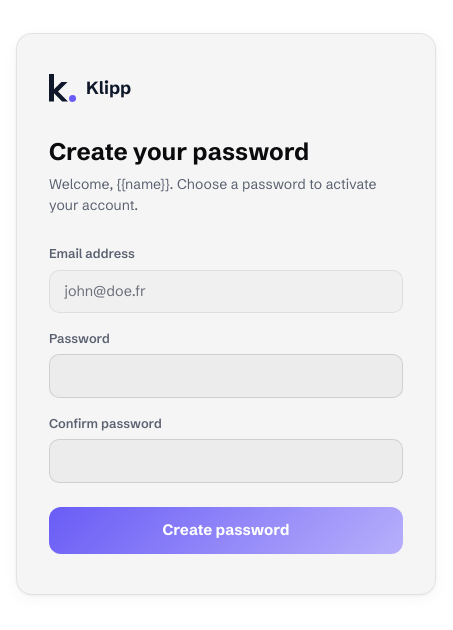
it: SetPasswordPage › renders Pydantic validation errors as text
The image size is (453, 630).
expect the heading "Create your password" is shown: met, box [49, 138, 309, 166]
Type "short" into the password field with id "set-password". click: (226, 376)
box: [49, 354, 403, 398]
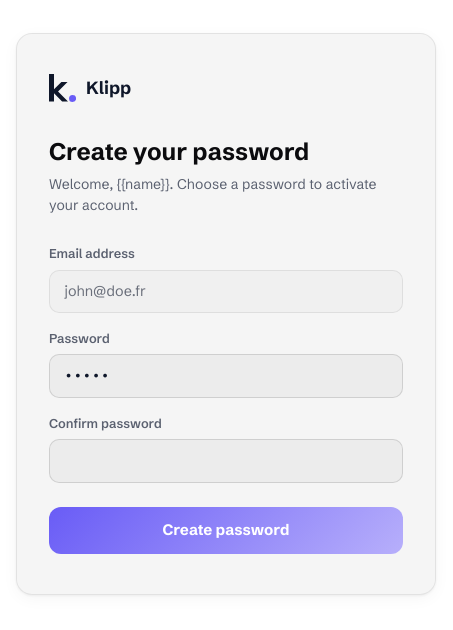
Type "short" into the password field with id "set-password-confirm". click: (226, 461)
box: [49, 439, 403, 483]
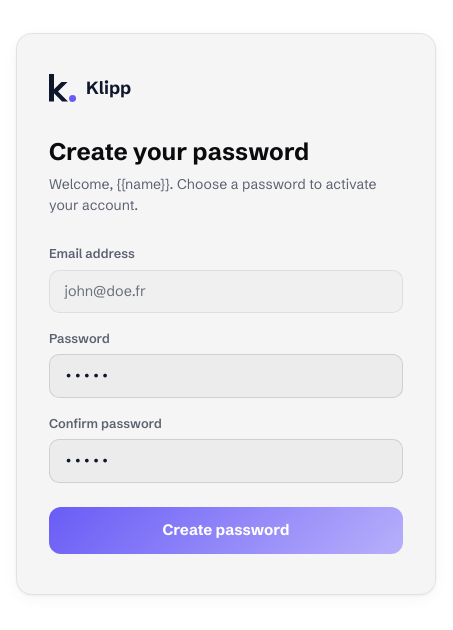
Click the button "Create password". click: (226, 530)
box: [49, 507, 403, 554]
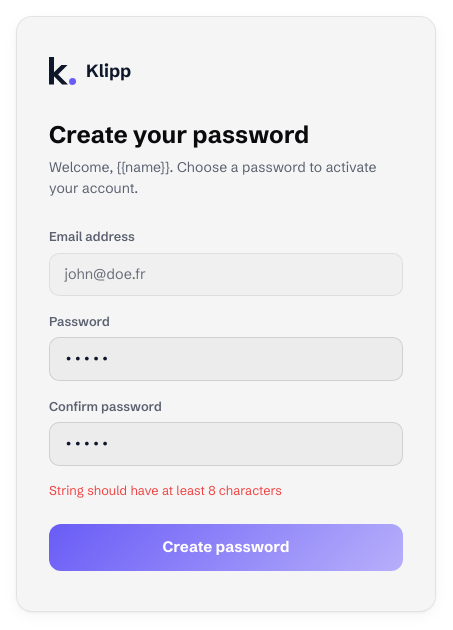
expect the text "String should have at least 8 characters" is shown: met, box [49, 482, 282, 498]
